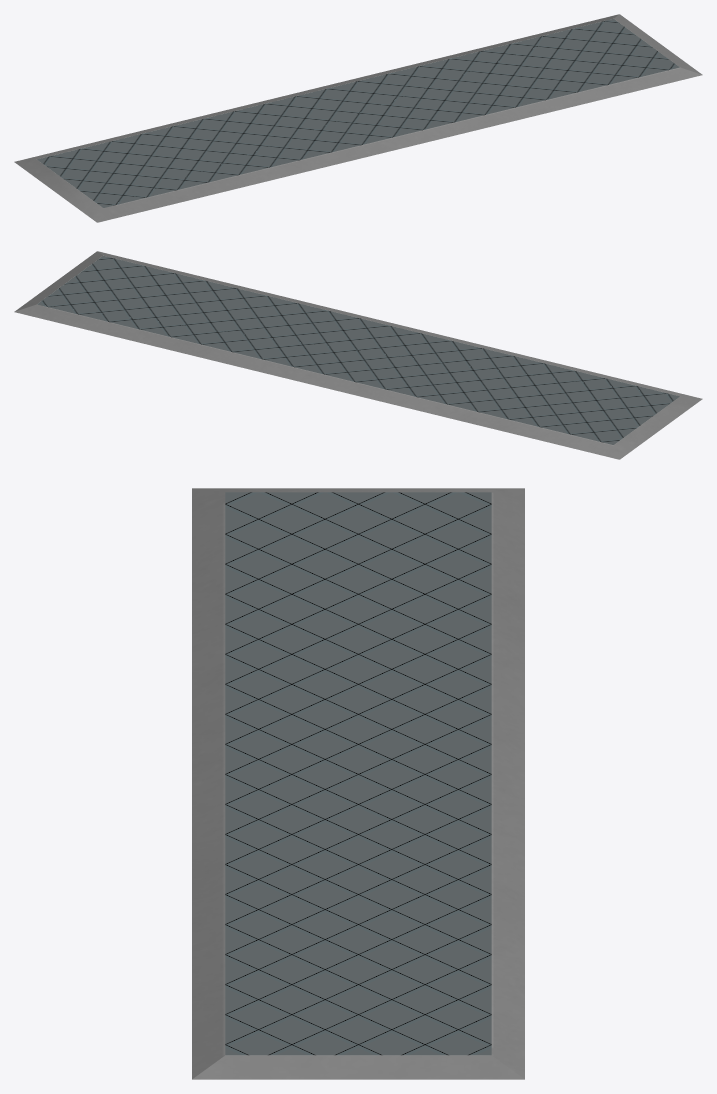
The model's file is Portal 1 Lightstrip Editor.fbx.
3 renders of one model, top to bottom at view 1: azimuth 30°, elevation 25°; view 2: azimuth 150°, elevation 25°; view 3: azimuth 270°, elevation 25°, orthographic. The views are drawn at different scales.
Parts seen in each view (by area): view 1: p1_lightstrip_reference; view 2: p1_lightstrip_reference; view 3: p1_lightstrip_reference.
Part boxes in pixels (<box>): p1_lightstrip_reference: <box>14,14,702,222</box>; p1_lightstrip_reference: <box>14,251,702,459</box>; p1_lightstrip_reference: <box>192,488,524,1079</box>.
Bounding box in the file's own units: 12600 × 100 × 3000.
